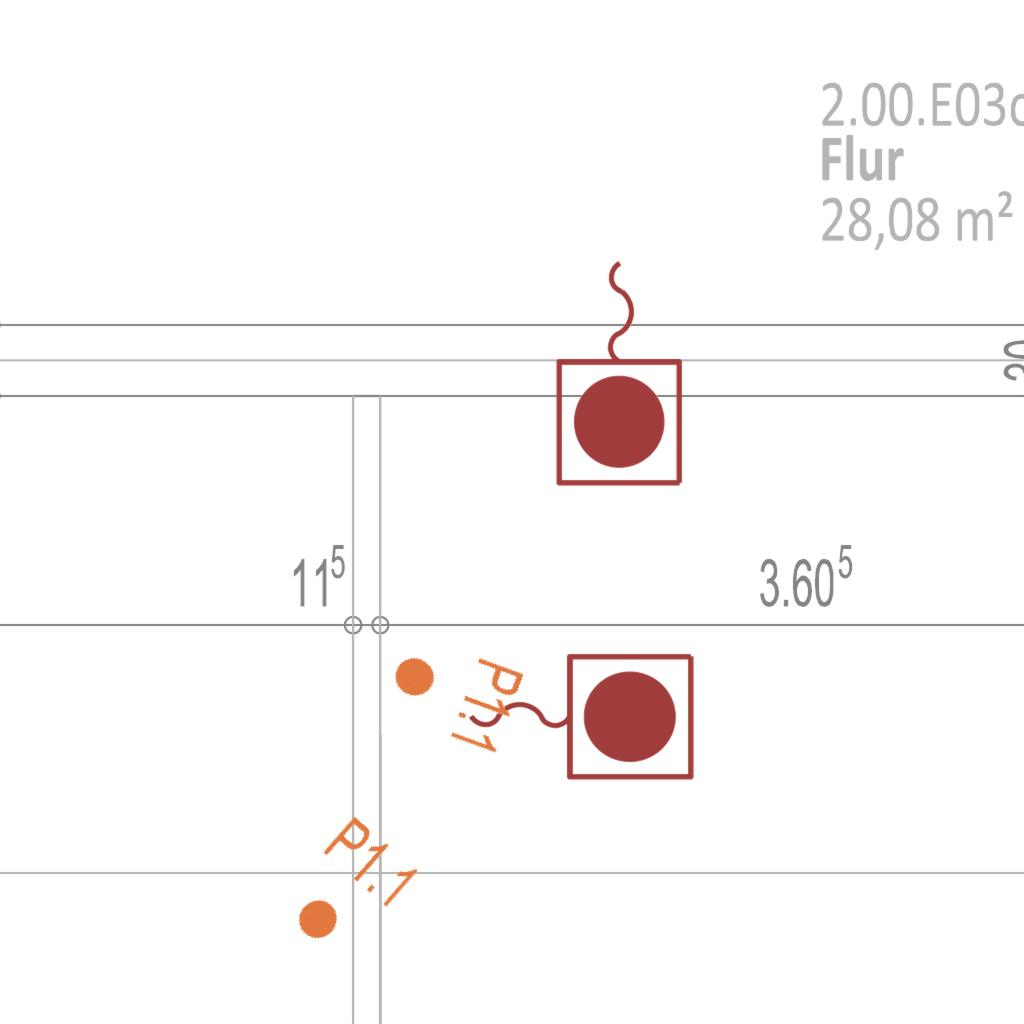Downlight_LED_Einbauleuchten_Flur: (270, 811, 425, 969), (376, 628, 529, 760)
Zugtaster: (458, 643, 702, 787), (549, 250, 693, 494)
